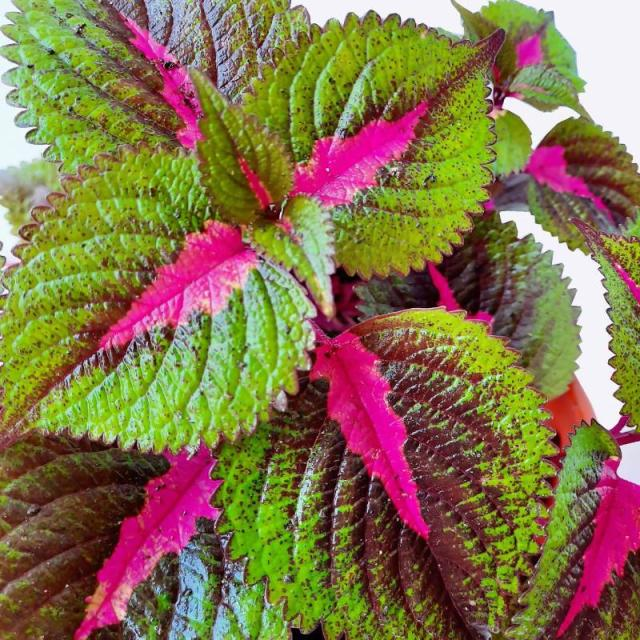Coleus: (2, 1, 639, 634)
